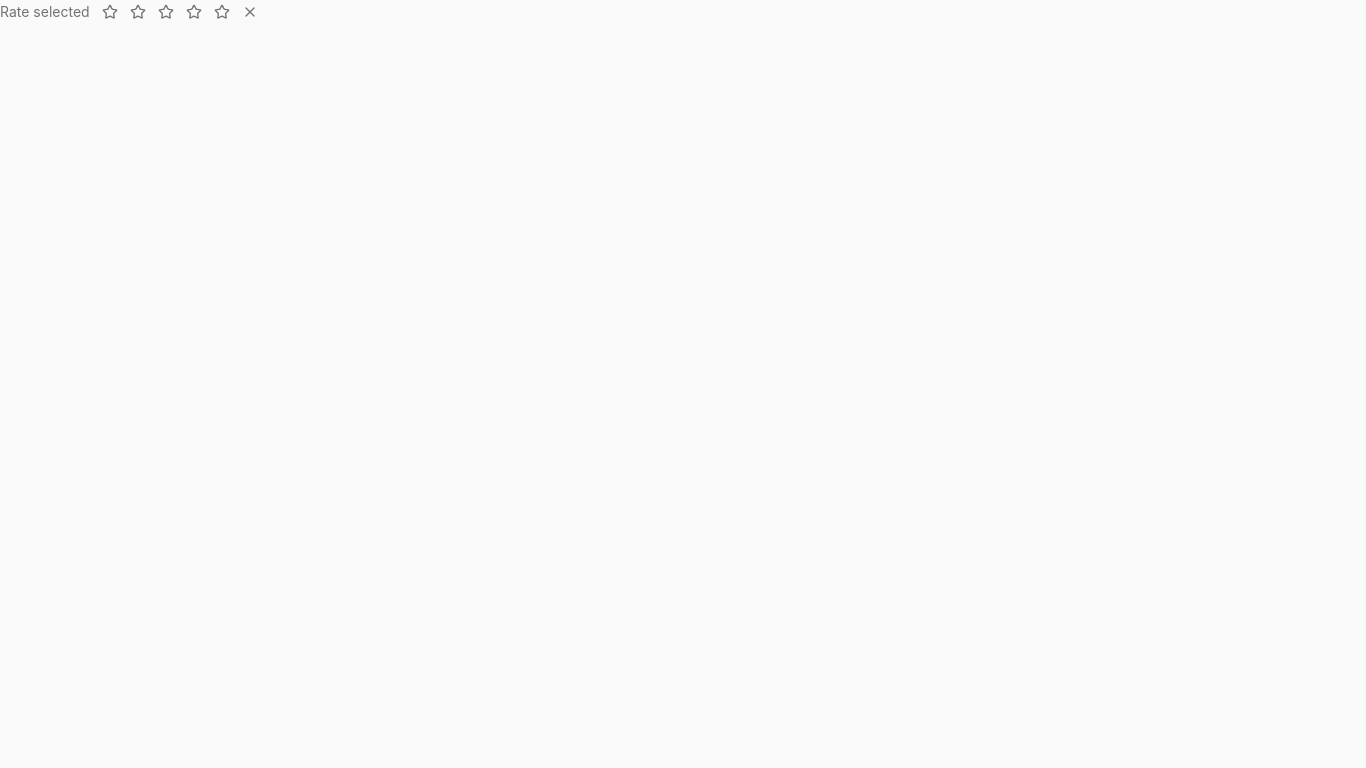
BulkRating › asks for name and email first when the gallery requires them
Click the button named "Rate 4 stars". click: (194, 12)
box: [182,0,206,24]
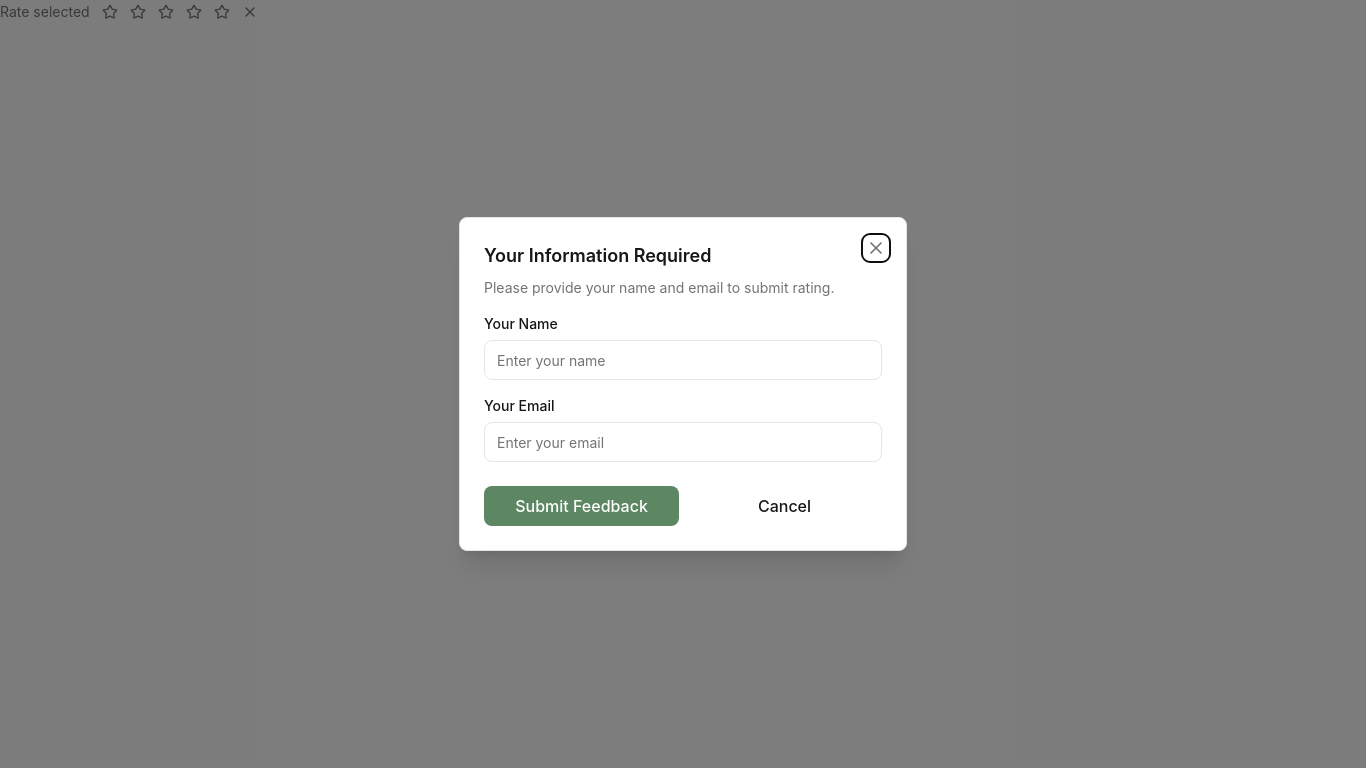
Now the dialog is shown, box [459,217,907,551]
